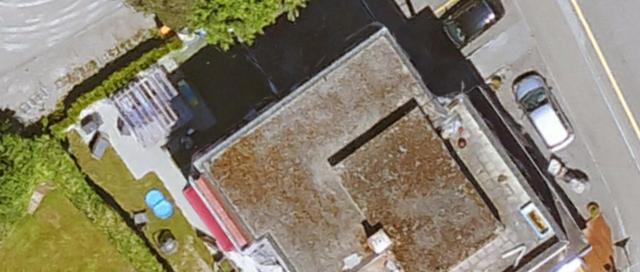tree: (189, 0, 310, 48), (0, 136, 39, 221), (126, 0, 214, 31)
